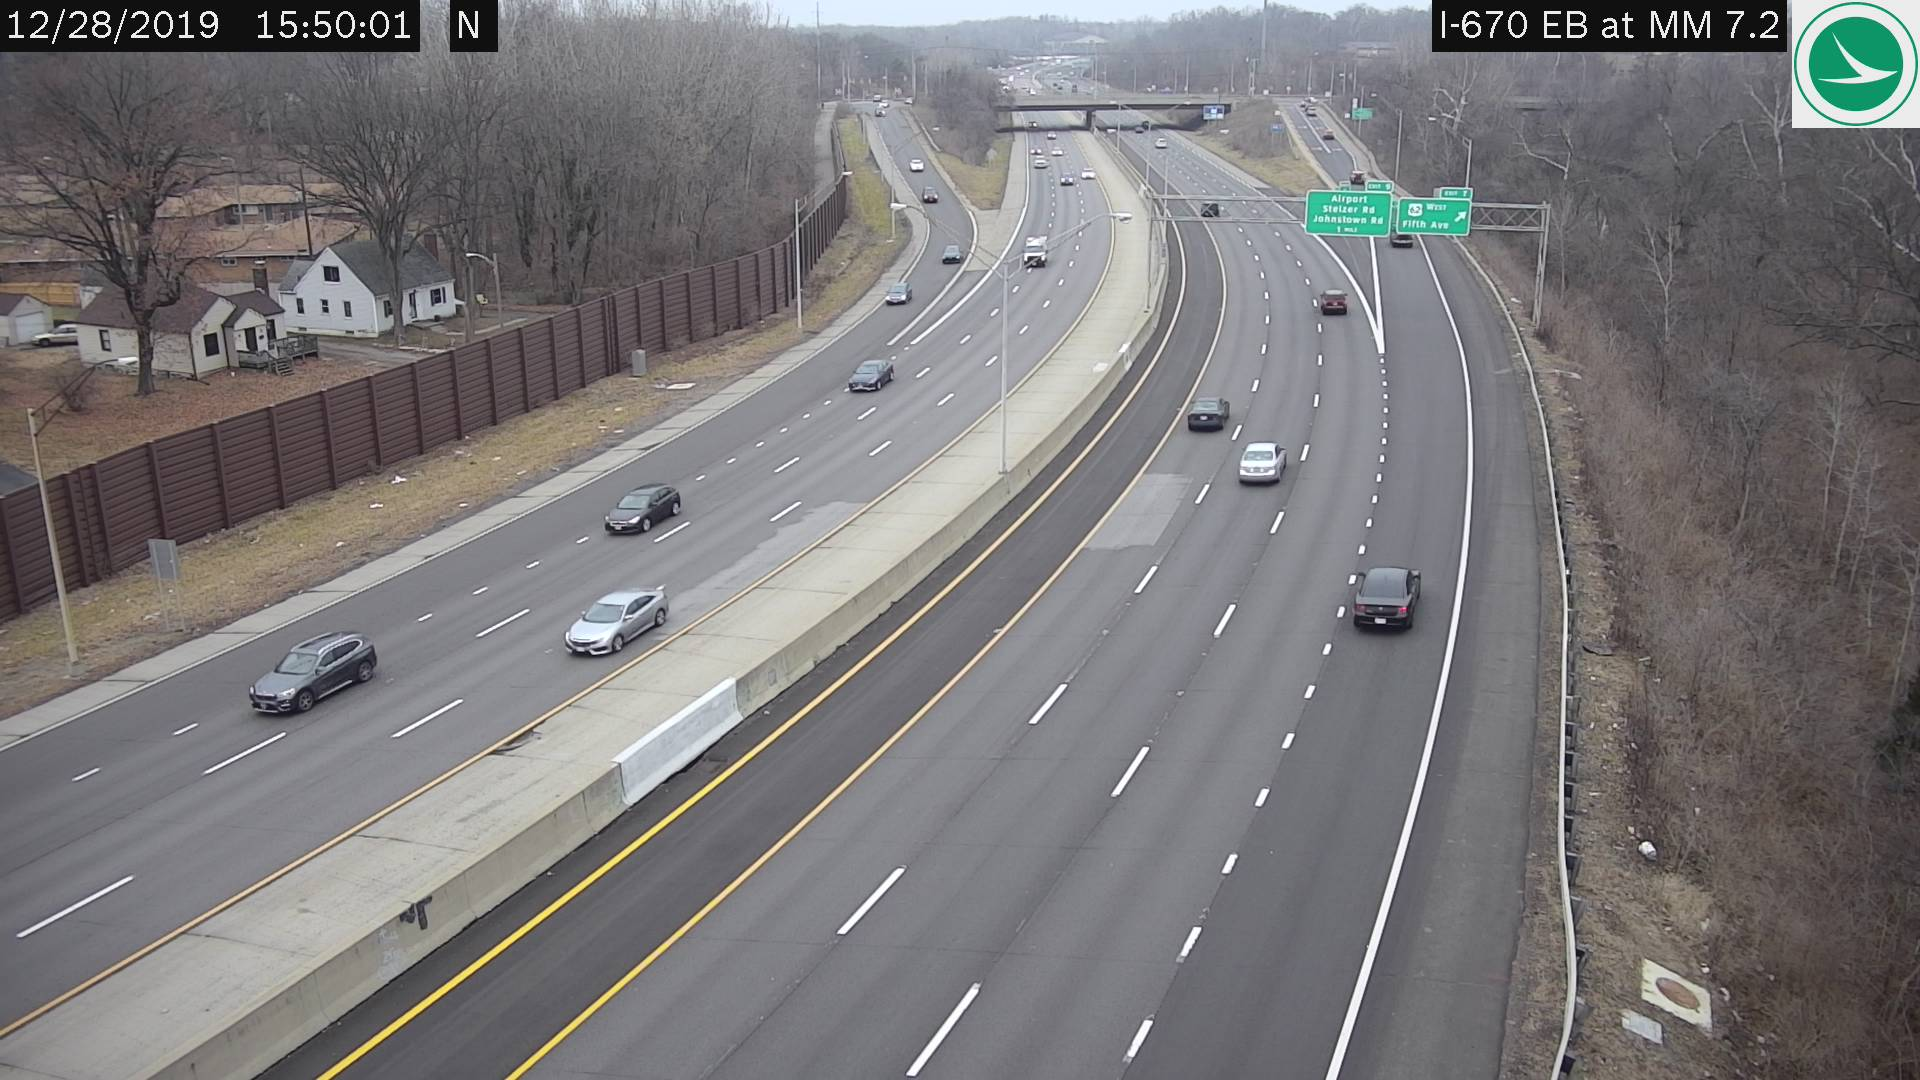car: (251, 628, 378, 716), (562, 588, 666, 655), (1358, 564, 1422, 628), (603, 484, 678, 531), (1238, 440, 1286, 480), (1189, 396, 1230, 429), (847, 360, 890, 388), (1022, 232, 1050, 268), (1317, 287, 1346, 316), (886, 280, 910, 305), (938, 240, 957, 264), (922, 185, 942, 200), (1203, 200, 1218, 216), (1350, 167, 1365, 185), (910, 157, 923, 171), (1034, 156, 1050, 167), (1081, 165, 1095, 178), (1062, 171, 1072, 185)
